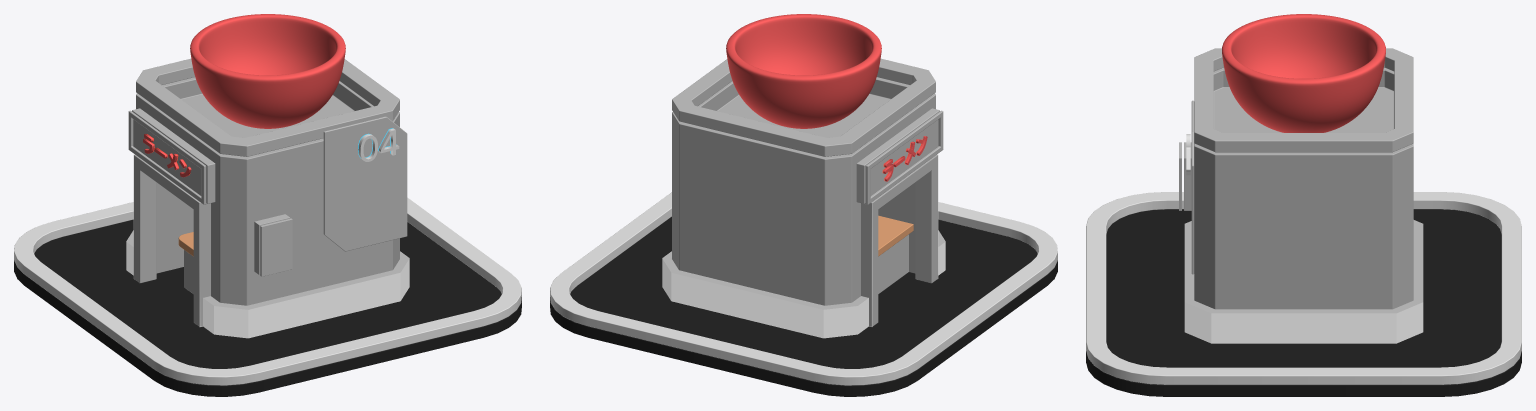
Rendered from japres.glb.
3 renders of one model, left to right at view 1: azimuth 30°, elevation 25°; view 2: azimuth 150°, elevation 25°; view 3: azimuth 270°, elevation 25°, orthographic. The views are drawn at different scales.
Visible parts, largest first — view 1: Cube, Plane, Plane.002, Circle, Plane.004, Cube.002, Cube.001, Plane.001, Plane.003, Text.001, Text; view 2: Cube, Plane, Plane.002, Circle, Cube.002, Cube.001, Plane.001, Cube.003, Cube.004, Text; view 3: Cube, Plane, Plane.002, Circle, Cube.002, Plane.004, Plane.003.
Boxes of the visible parts, box(x1,y1,x2,y2) form: Cube: box(136, 58, 399, 305); Plane: box(14, 219, 521, 396); Plane.002: box(14, 197, 521, 385); Circle: box(190, 14, 345, 128); Plane.004: box(323, 116, 407, 251); Cube.002: box(126, 230, 409, 338); Cube.001: box(133, 154, 210, 326); Plane.001: box(128, 108, 215, 204); Plane.003: box(254, 214, 292, 276); Text.001: box(358, 128, 399, 161); Text: box(143, 134, 191, 177); Cube: box(672, 58, 935, 305); Plane: box(550, 217, 1057, 396); Plane.002: box(550, 192, 1057, 385); Circle: box(726, 14, 881, 128); Cube.002: box(662, 230, 945, 338); Cube.001: box(861, 154, 938, 326); Plane.001: box(856, 108, 943, 204); Cube.003: box(878, 234, 908, 293); Cube.004: box(878, 215, 913, 256); Text: box(883, 136, 927, 181); Cube: box(1194, 48, 1413, 309); Plane: box(1086, 209, 1521, 396); Plane.002: box(1086, 192, 1521, 384); Circle: box(1222, 14, 1385, 132); Cube.002: box(1184, 220, 1423, 343); Plane.004: box(1191, 100, 1194, 274); Plane.003: box(1179, 142, 1191, 210).
Bounding box in the file's own units: 8 × 5.22 × 8.
